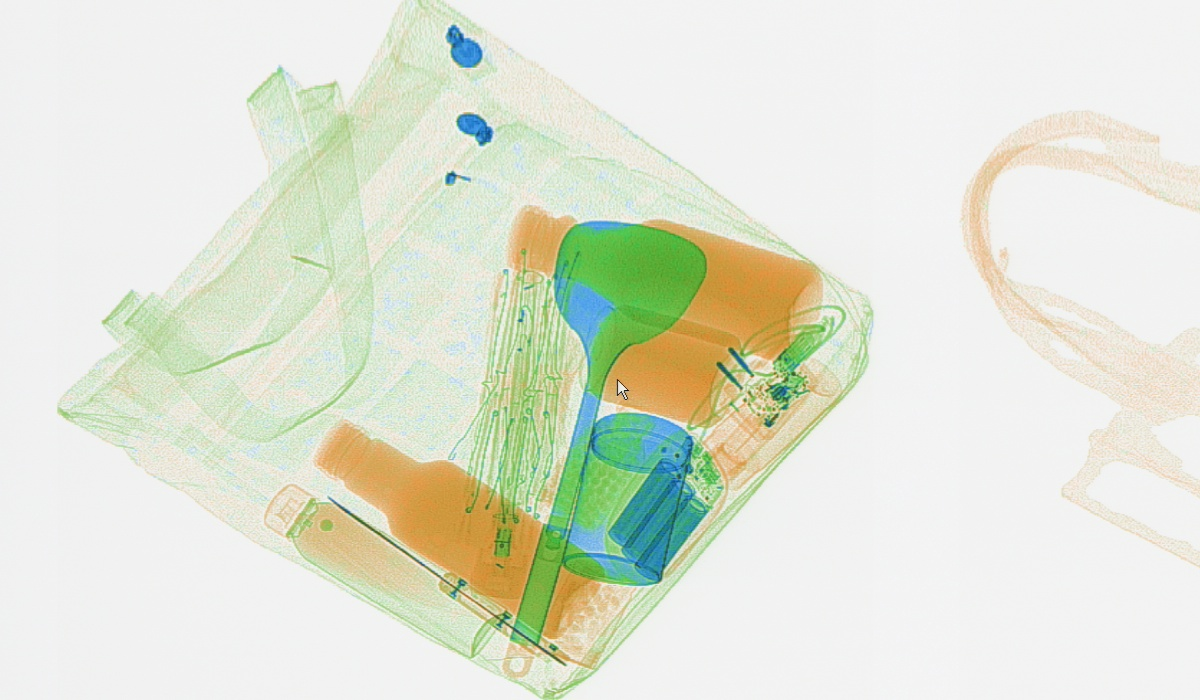knife: (327, 495, 569, 669)
lighter: (697, 369, 809, 482)
powerbank: (601, 431, 728, 589)
pressure: (262, 482, 500, 657)
